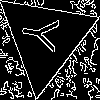Y: (20, 14, 68, 55)
